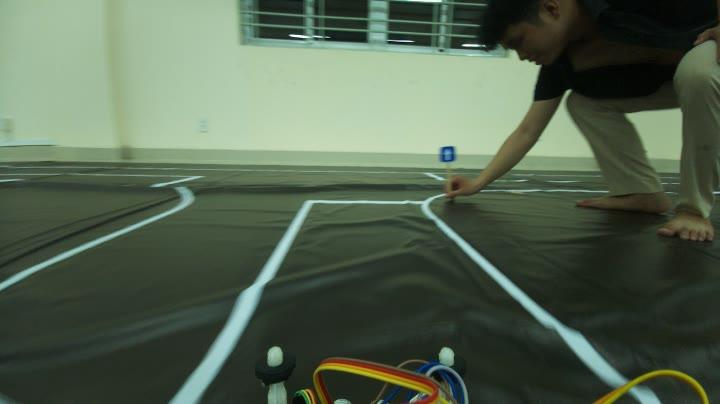onewayroad: (434, 146, 461, 164)
